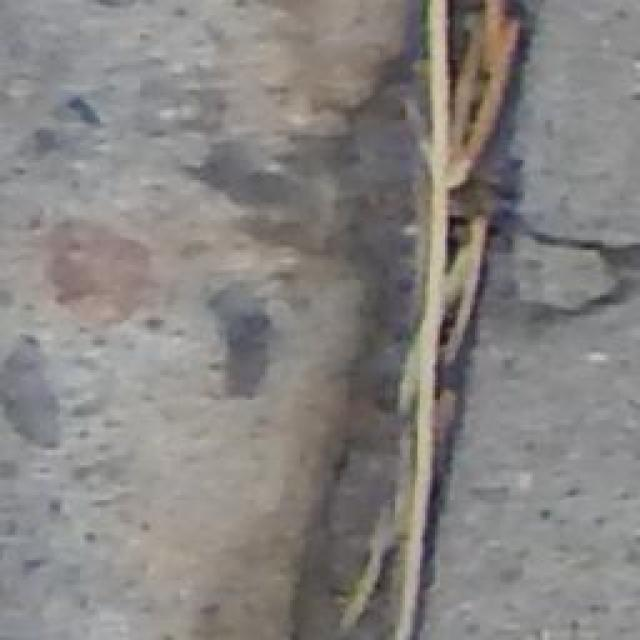concrete-crack: (192, 0, 640, 640)
